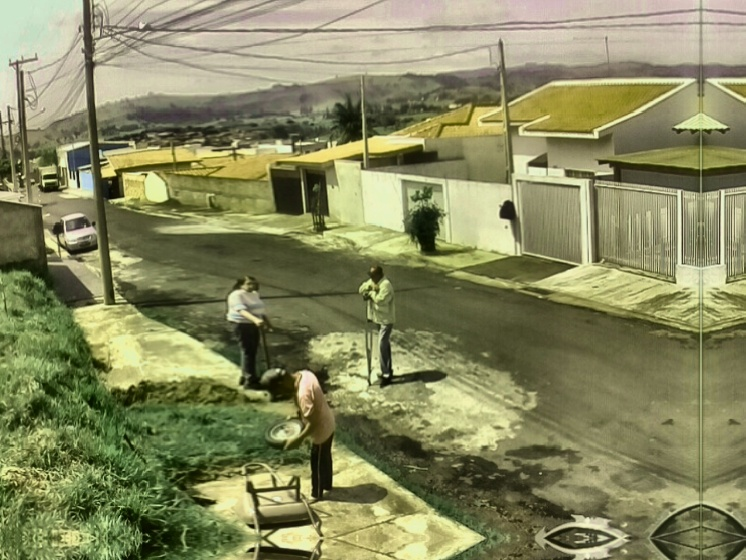person: (258, 367, 335, 503), (224, 276, 271, 390), (358, 265, 397, 384)
